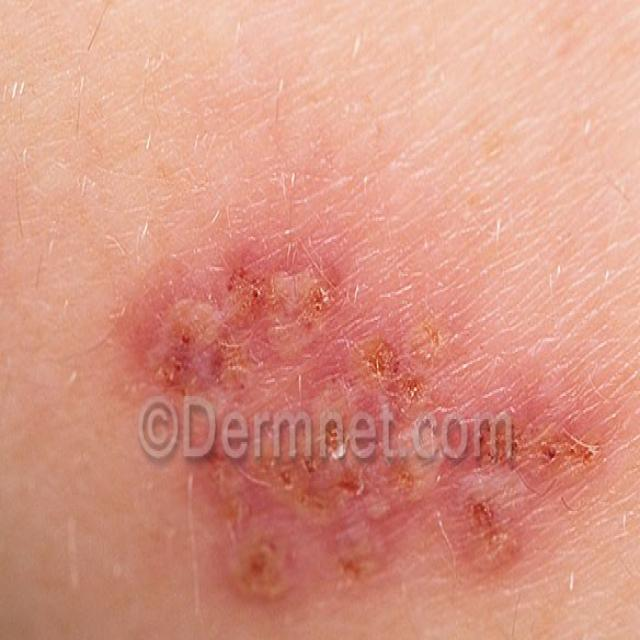Viral Infections: (91, 177, 640, 636)
